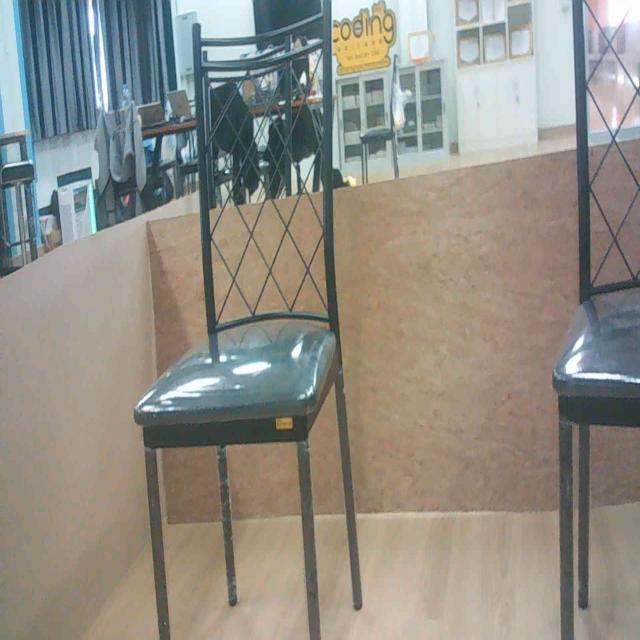emtpy: (135, 16, 345, 640), (549, 0, 640, 640)
